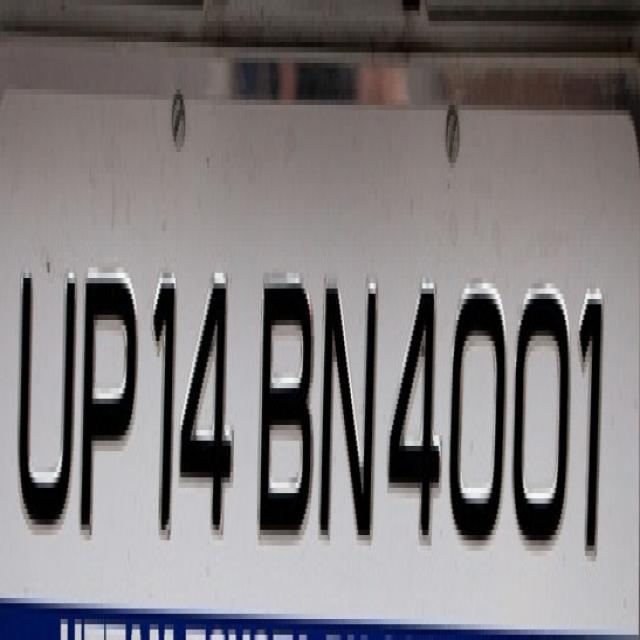0: (509, 256, 574, 556), (447, 245, 508, 563)
1: (572, 260, 613, 575), (147, 266, 181, 549)
4: (381, 242, 448, 561), (253, 251, 318, 568), (179, 244, 238, 580)
N: (314, 246, 381, 561)
P: (76, 245, 140, 561)
U: (8, 248, 79, 542)
